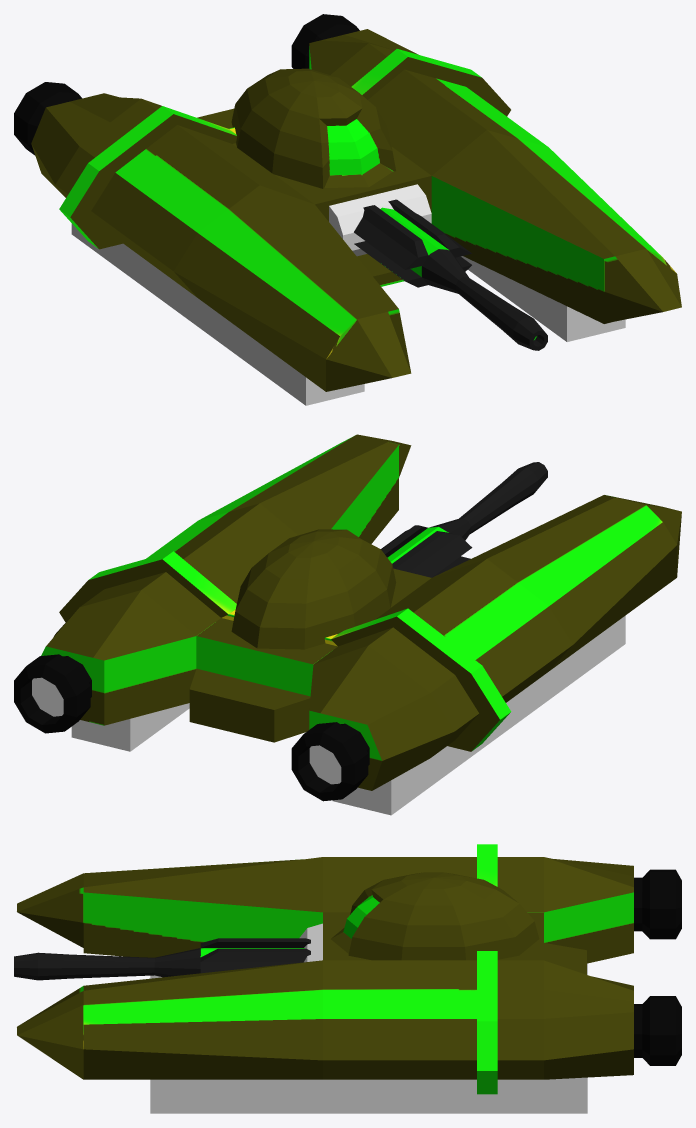
The model's file is tank.fbx.
3 views of the same model, one above another, from view 1: azimuth 30°, elevation 25°; view 2: azimuth 150°, elevation 25°; view 3: azimuth 270°, elevation 25° (orthographic). The views are drawn at different scales.
Parts seen in each view (by area): view 1: chasisTank, cupulse, bottom, weapon, engine, turret; view 2: chasisTank, cupulse, engine, bottom, weapon; view 3: chasisTank, bottom, cupulse, weapon, engine, turret.
Boxes of the visible parts, x1,y1,x2,y2 form: chasisTank: (31,29,681,391); cupulse: (231,68,395,188); bottom: (71,223,625,405); weapon: (354,199,547,350); engine: (14,14,359,155); turret: (329,184,431,256); chasisTank: (41,434,681,790); cupulse: (231,529,396,649); engine: (14,654,369,801); bottom: (71,615,625,815); weapon: (381,462,547,577); chasisTank: (17,844,633,1094); bottom: (150,963,587,1113); cupulse: (331,872,539,960); weapon: (14,938,310,980); engine: (634,869,681,1065); turret: (299,923,322,962).
Bounding box in the file's own units: 430 × 163 × 605.
